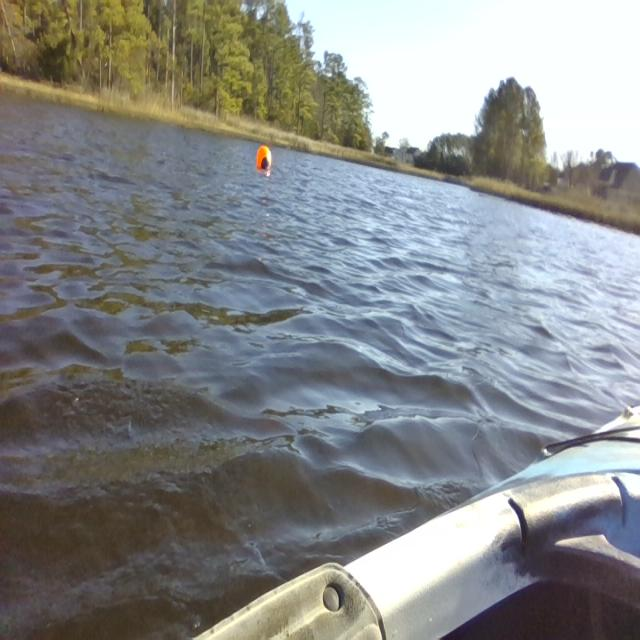Buoy: (255, 140, 277, 180)
